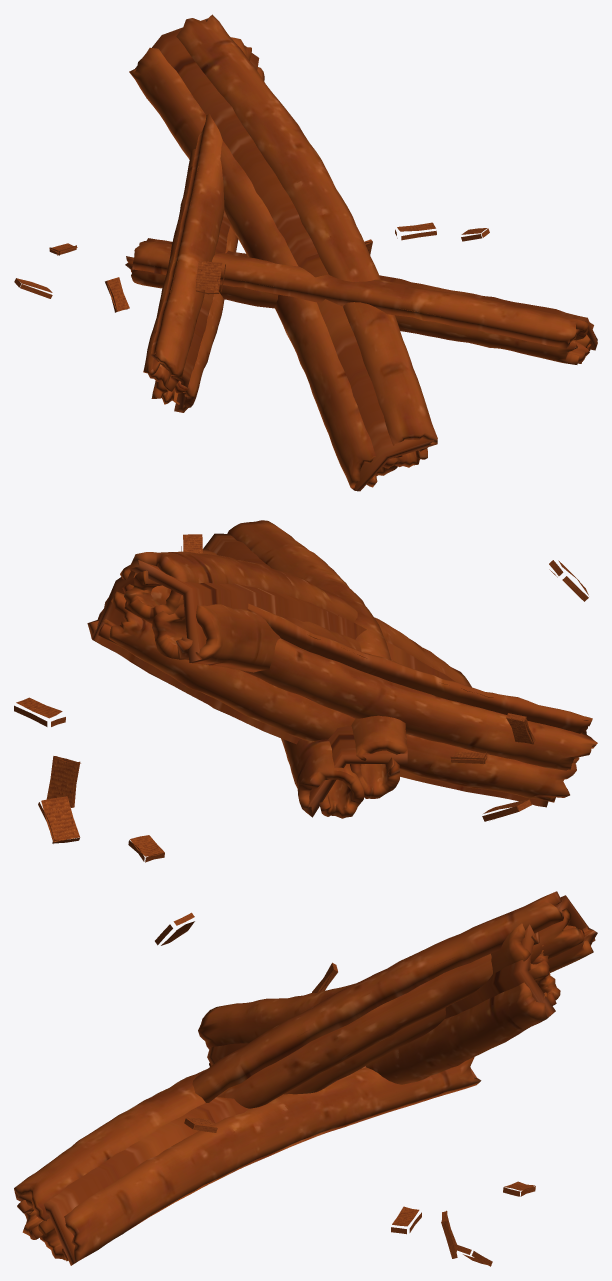
File: cinnamon-sticks.glb
The picture shows the model from 3 angles, top to bottom: view 1: azimuth 30°, elevation 25°; view 2: azimuth 150°, elevation 25°; view 3: azimuth 270°, elevation 25°; orthographic projection. The views are drawn at different scales.
Visible parts, largest first — view 1: cinnamon-quill-bundle; view 2: cinnamon-quill-bundle; view 3: cinnamon-quill-bundle.
Boxes of the visible parts, x1,y1,x2,y2 form: cinnamon-quill-bundle: (14, 14, 597, 491); cinnamon-quill-bundle: (14, 520, 597, 862); cinnamon-quill-bundle: (14, 891, 597, 1266).
Bounding box in the file's own units: 0.083 × 0.0579 × 0.0847.
1 material, 1 textured.
